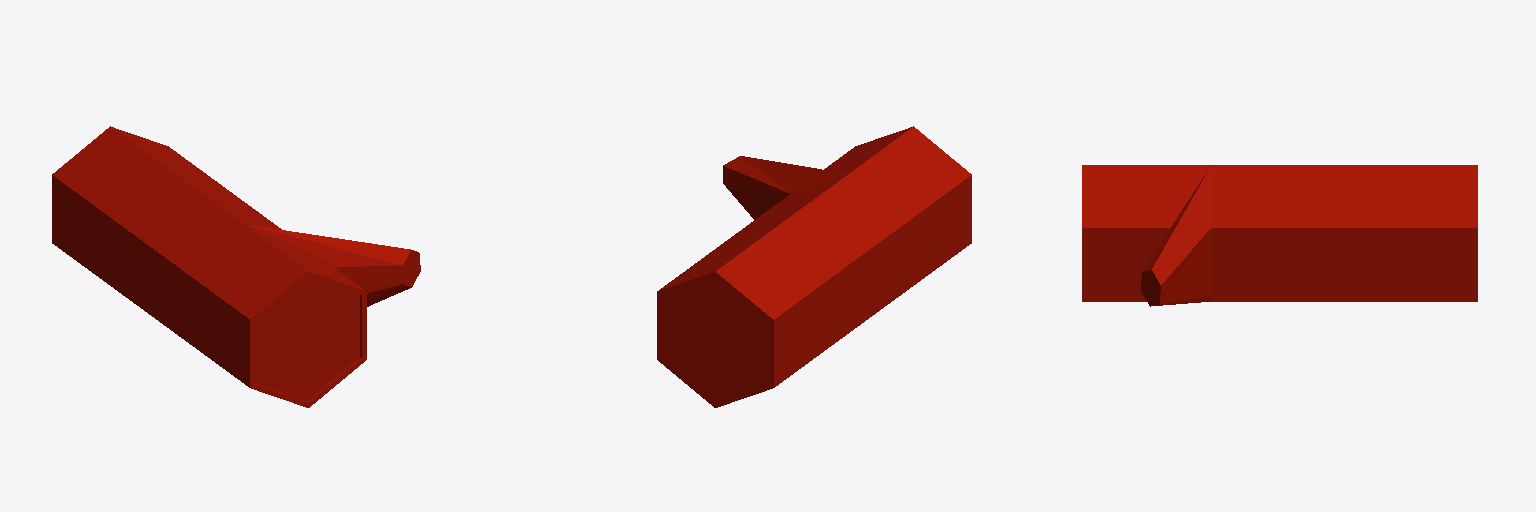
The model's file is wood.obj.
3 views of the same model, side by side, from view 1: azimuth 30°, elevation 25°; view 2: azimuth 150°, elevation 25°; view 3: azimuth 270°, elevation 25° (orthographic).
Visible parts, largest first — view 1: Cylinder.014; view 2: Cylinder.014; view 3: Cylinder.014.
Part boxes in pixels (left/top/right/bottom): Cylinder.014: left=52, top=126, right=420, bottom=407; Cylinder.014: left=657, top=126, right=971, bottom=407; Cylinder.014: left=1082, top=165, right=1477, bottom=306.
Bounding box in the file's own units: 0.61 × 0.38 × 1.